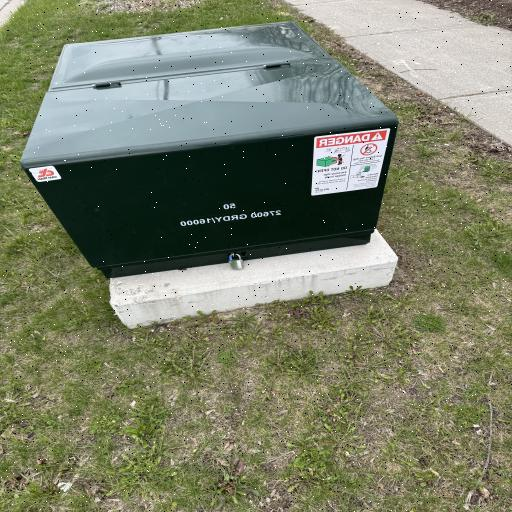Electrical Box: (18, 20, 405, 282)
